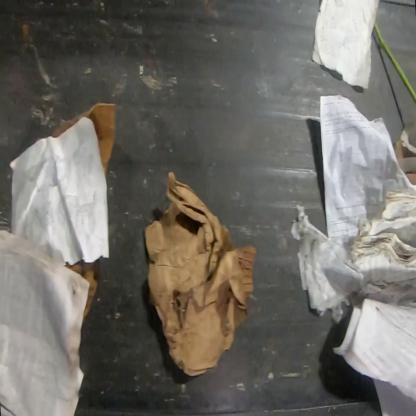cardboard: (144, 171, 256, 377), (50, 103, 118, 176), (64, 260, 100, 320)
